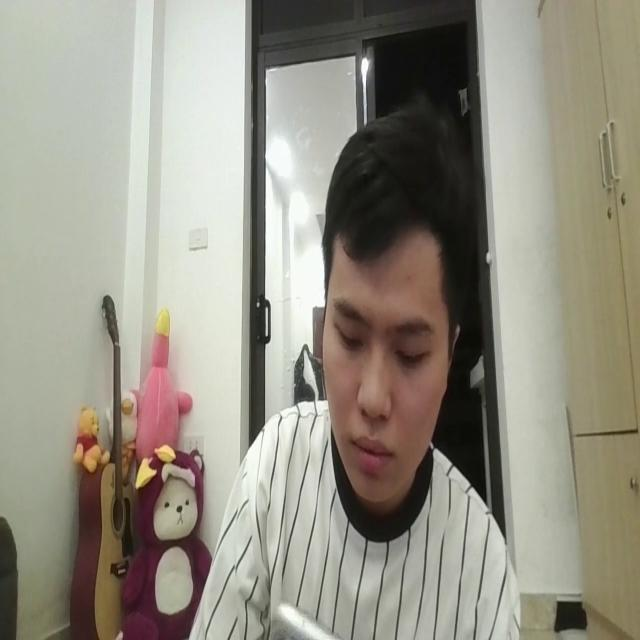student: (173, 101, 519, 640)
